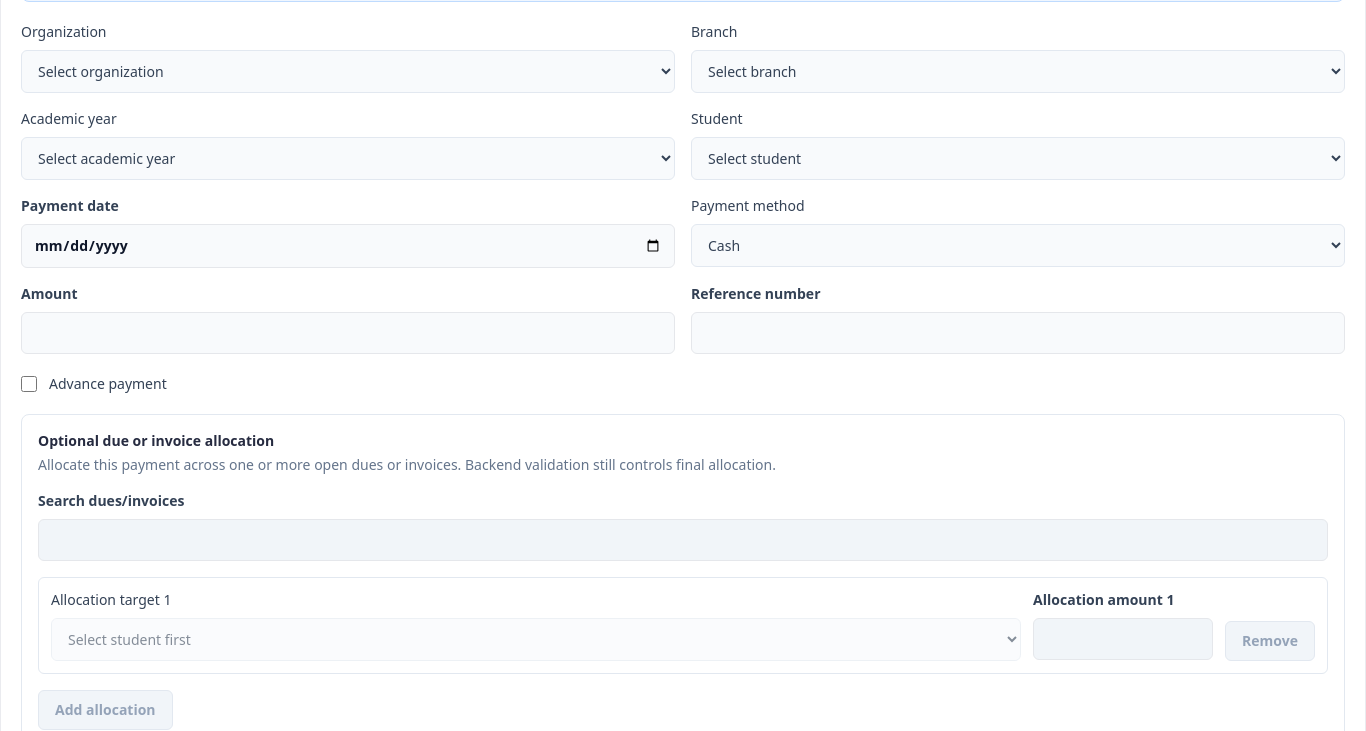
NewPaymentPage › hides allocation picker for advance payments
The image size is (1366, 731).
(page scrolled)
Click the checkbox labelled "Advance payment": (29, 384) [21,376,37,392]
(page scrolled)
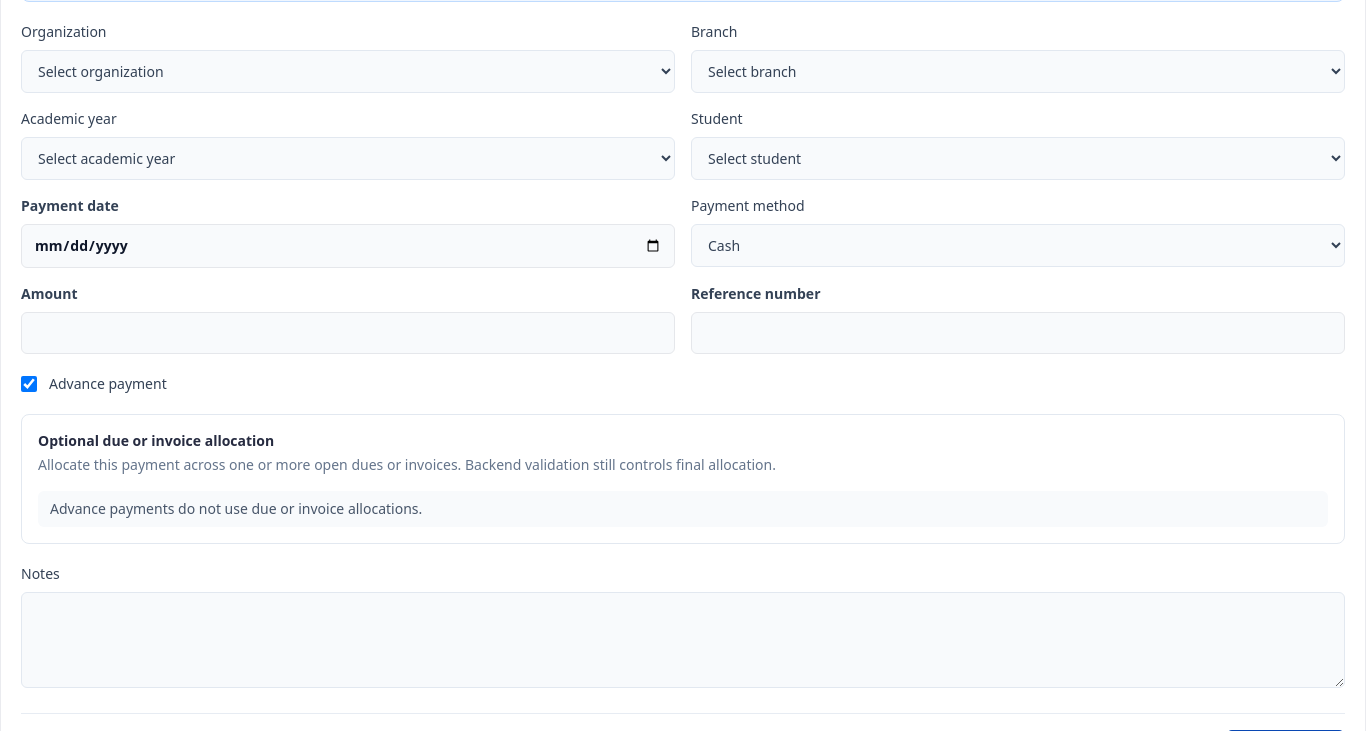
Check: the label labelled "Allocation target 1" is gone
Check: the text "Advance payments do not use due or invoice allocations." is shown, box [38,491,1328,527]
